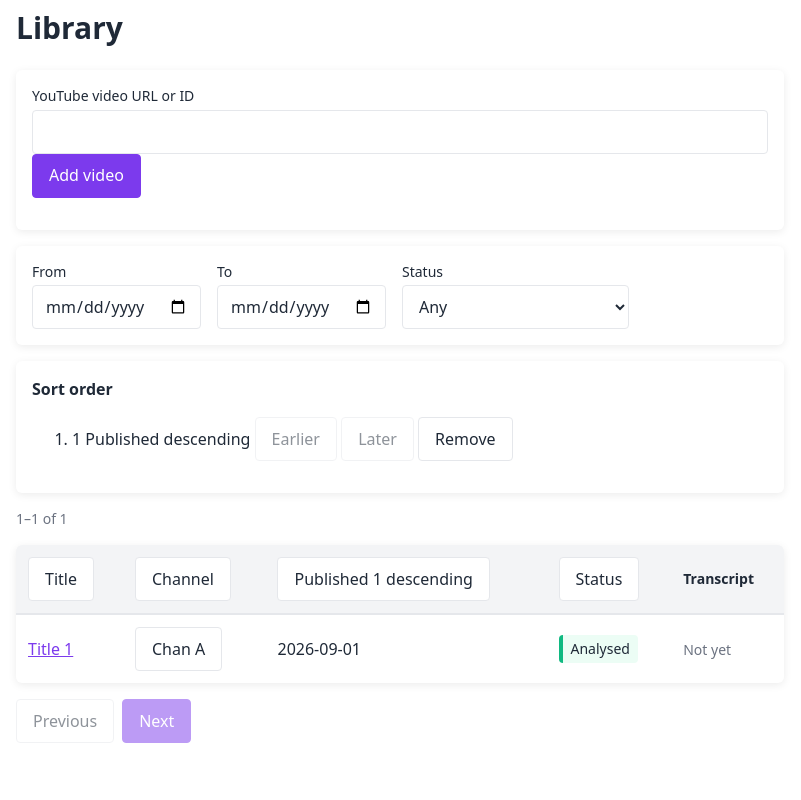
it: single-video submission › clears feedback on edit and invalidates videos and ops after success
Type "dQw4w9WgXcQ" into the field labelled "YouTube video URL or ID". click: (400,132)
box: [32,110,768,154]
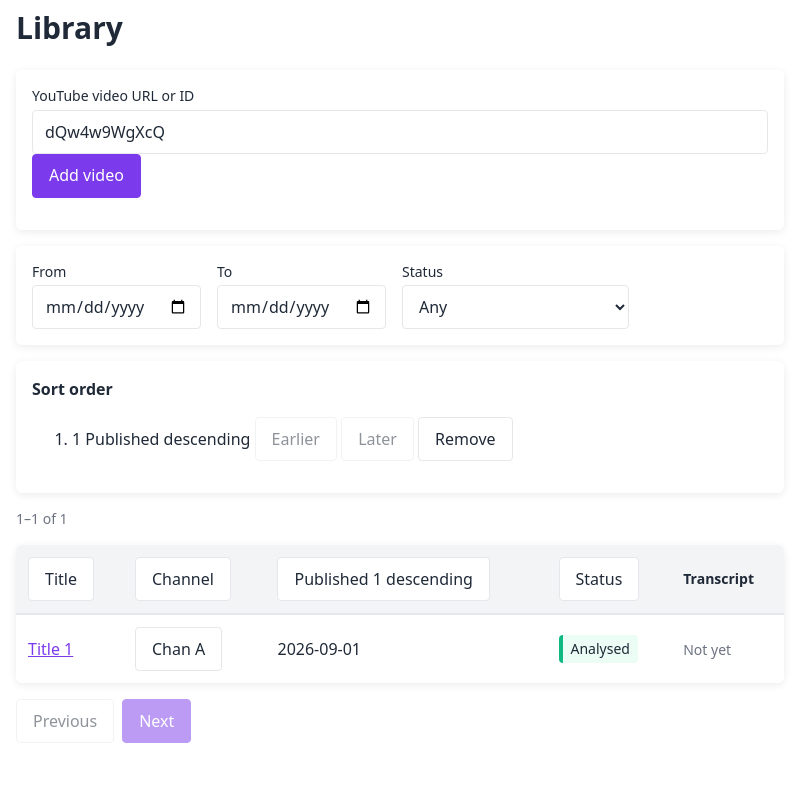
Submit the form "YouTube video URL or ID", box [16,70,784,230]
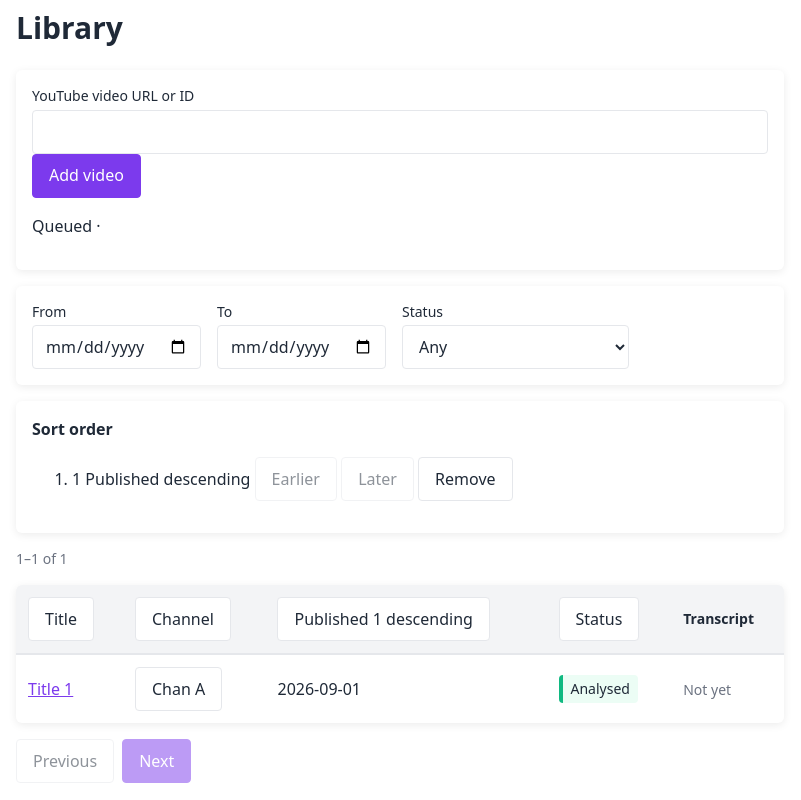
Expected: the field labelled "YouTube video URL or ID" is empty
Type "next" into the field labelled "YouTube video URL or ID". click: (400,132)
box: [32,110,768,154]
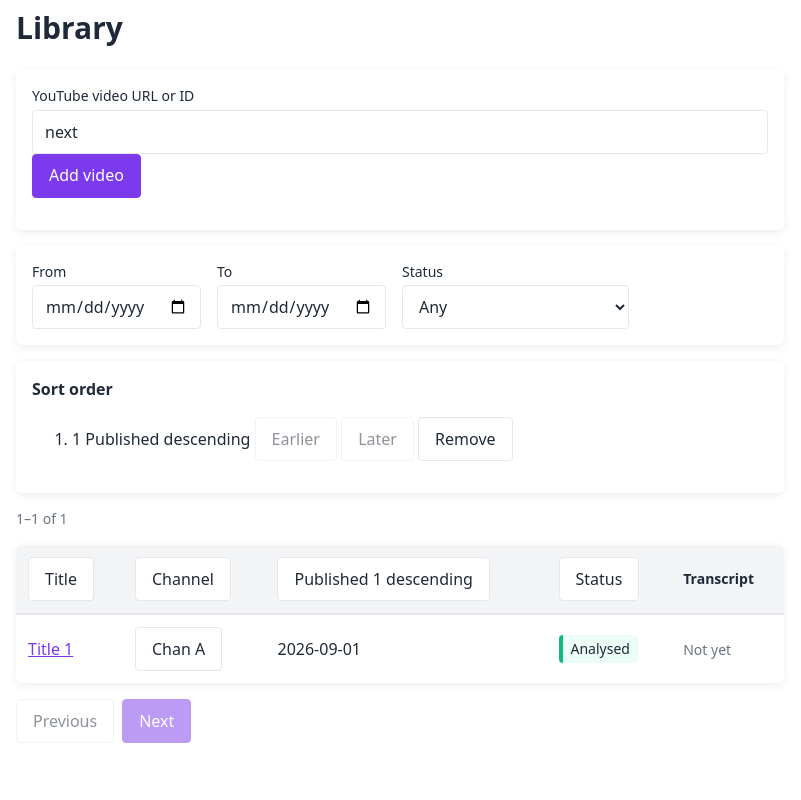
Expected: the text "Queued" is gone
